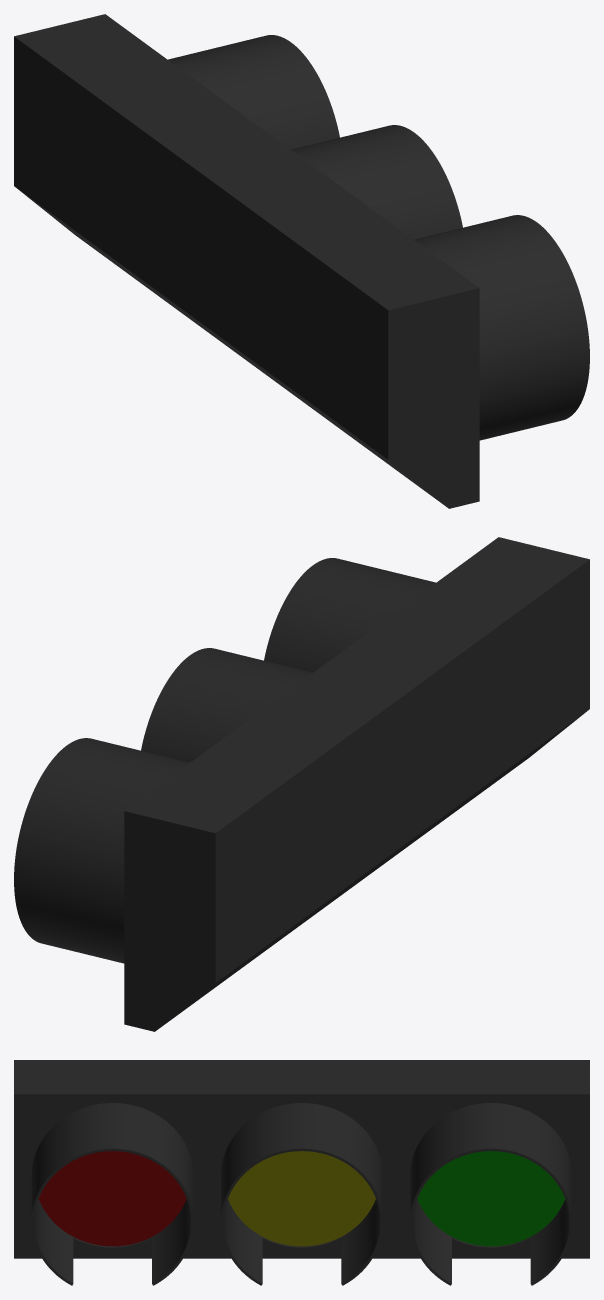
File: RoadTFLight_2type.FBX
3 renders of one model, top to bottom at view 1: azimuth 30°, elevation 25°; view 2: azimuth 150°, elevation 25°; view 3: azimuth 270°, elevation 25°, orthographic. The views are drawn at different scales.
Parts seen in each view (by area): view 1: RoadTFLight_2type; view 2: RoadTFLight_2type; view 3: RoadTFLight_2type.
Part boxes in pixels (x1=…): RoadTFLight_2type: x1=14, y1=14, x2=589, y2=508; RoadTFLight_2type: x1=14, y1=537, x2=589, y2=1031; RoadTFLight_2type: x1=14, y1=1060, x2=589, y2=1285.
Size of the model in its own units: 35 by 33.5 by 107.
